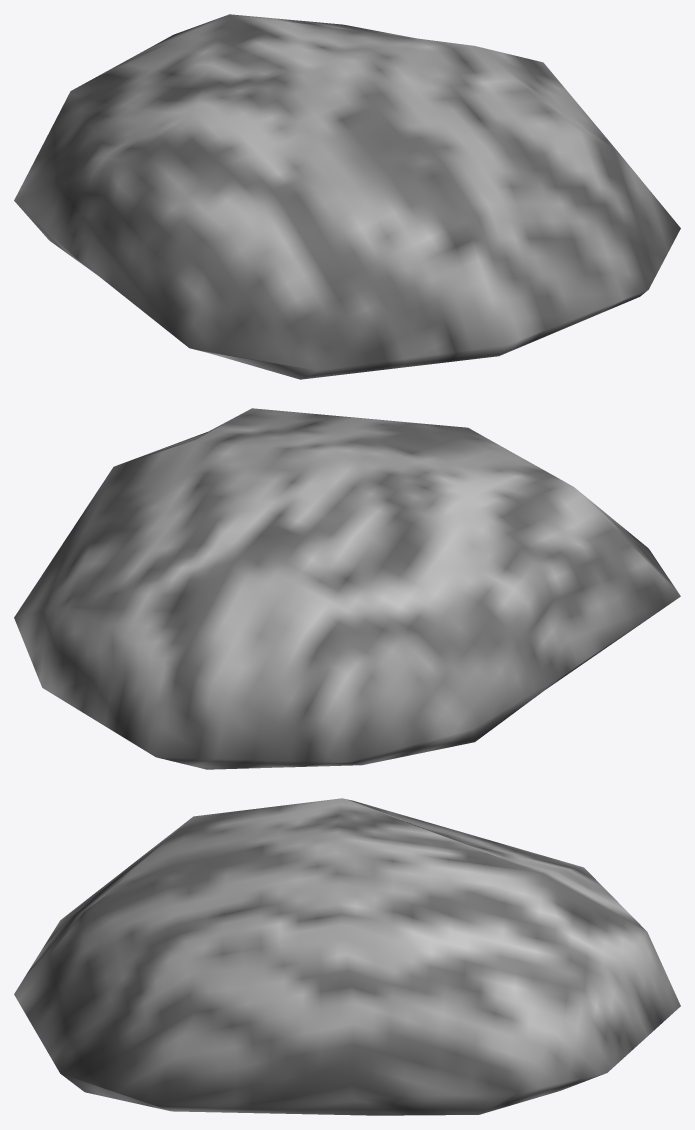
The model's file is Wig_F_Hair_Demi.fbx.
3 views of the same model, one above another, from view 1: azimuth 30°, elevation 25°; view 2: azimuth 150°, elevation 25°; view 3: azimuth 270°, elevation 25° (orthographic). The views are drawn at different scales.
Visible parts, largest first — view 1: BoxOfJars003; view 2: BoxOfJars003; view 3: BoxOfJars003.
Boxes of the visible parts, left/top/right/bottom form: BoxOfJars003: left=14, top=14, right=680, bottom=379; BoxOfJars003: left=14, top=408, right=680, bottom=769; BoxOfJars003: left=14, top=798, right=680, bottom=1115.
Size of the model in its own units: 8.59 by 3.34 by 10.59.
